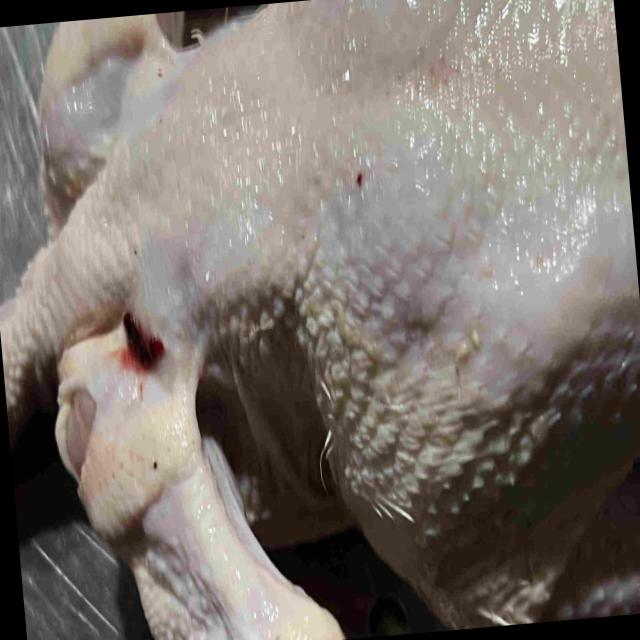back: (169, 16, 640, 394)
leg: (340, 377, 640, 629)
neck: (0, 146, 142, 427)
wing: (83, 364, 345, 640), (36, 10, 190, 185)
